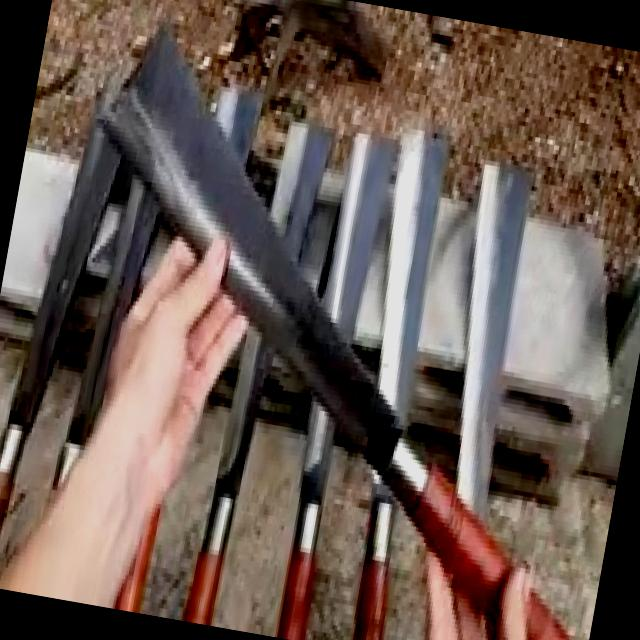eto: (97, 18, 566, 640)
